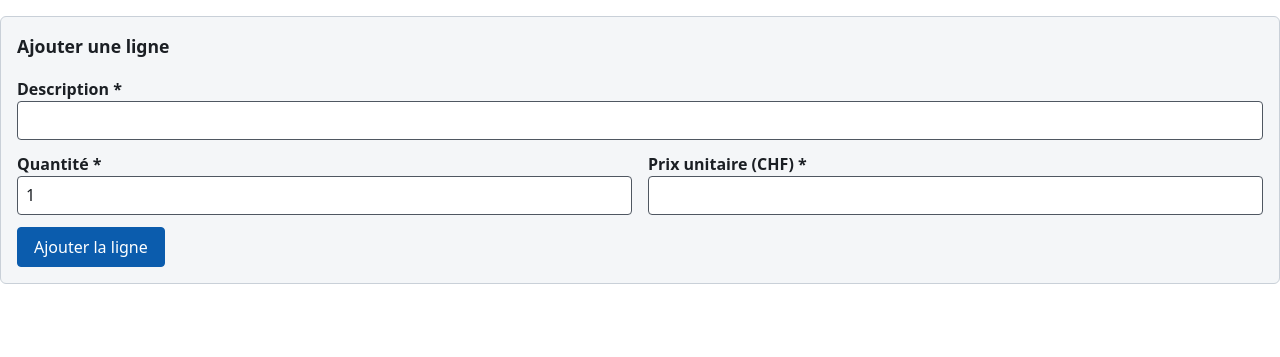
LineForm › announces the API refusal of the line and keeps what was typed
This screenshot has width=1280, height=357.
Type "Analyse" into the field labelled "Description *" at (640, 120), box [17,101,1263,140]
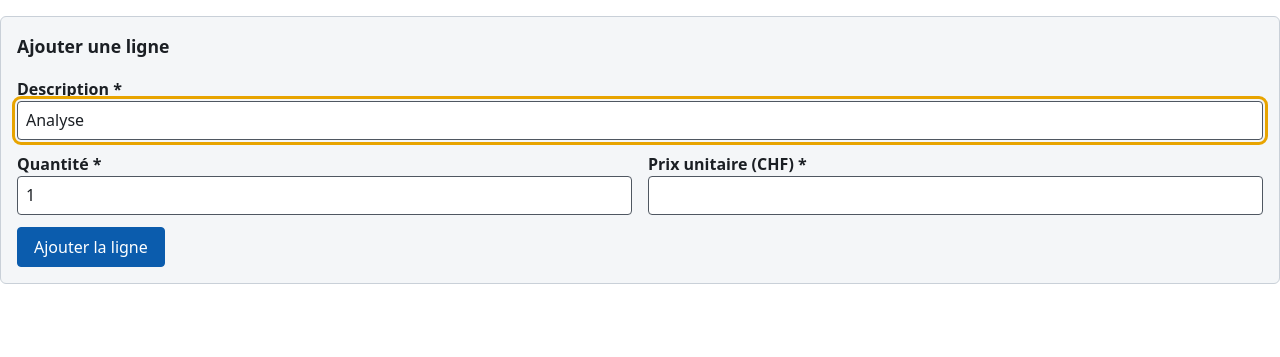
Replace the text in the field labelled "Quantité *" with "0" at (324, 195), box [17,176,632,215]
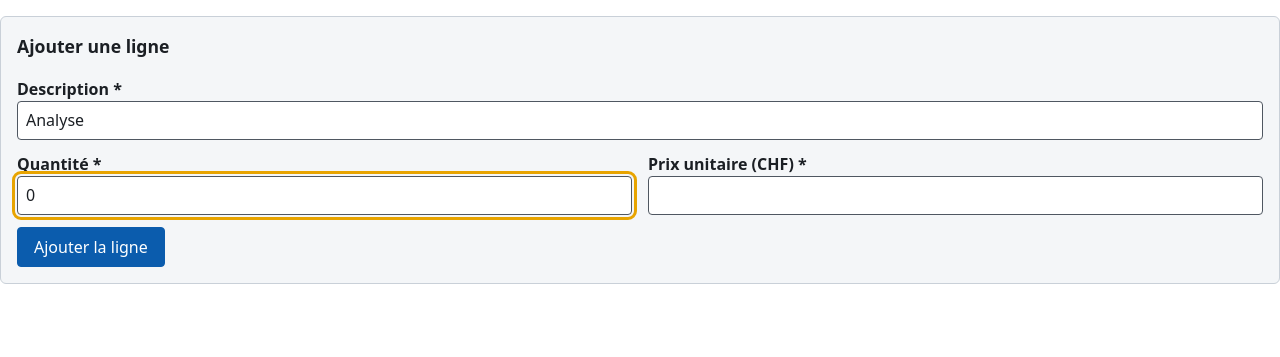
Type "150" into the field labelled "Prix unitaire (CHF) *" at (956, 195), box [648,176,1263,215]
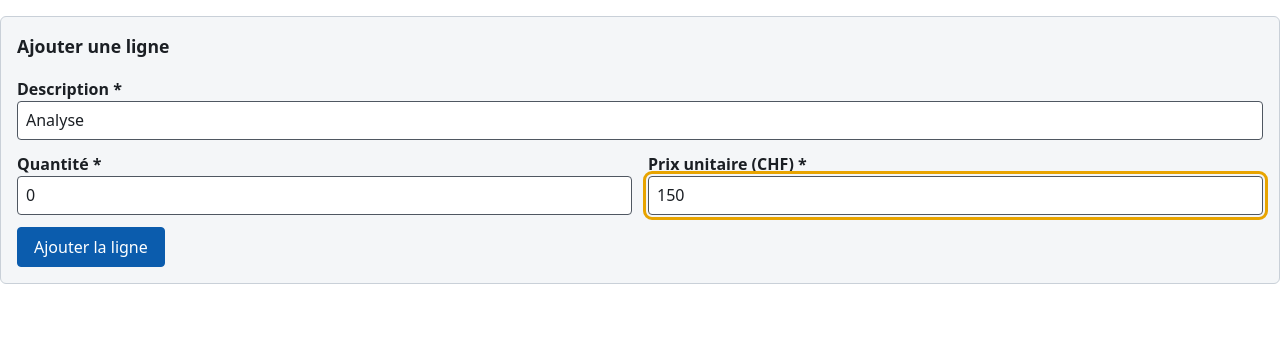
Click the button "Ajouter la ligne" at (91, 247), box [17,226,165,267]
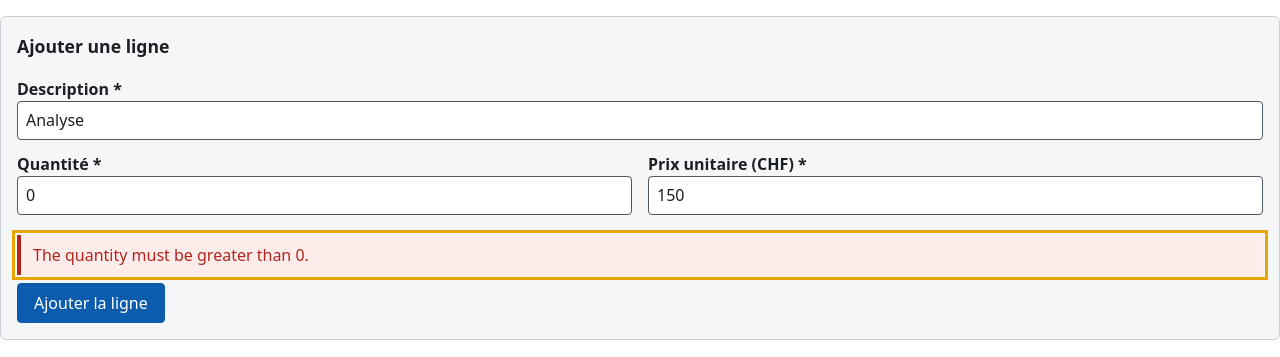
Check: the message reads "The quantity must be greater than 0.", box [33,244,309,266]
